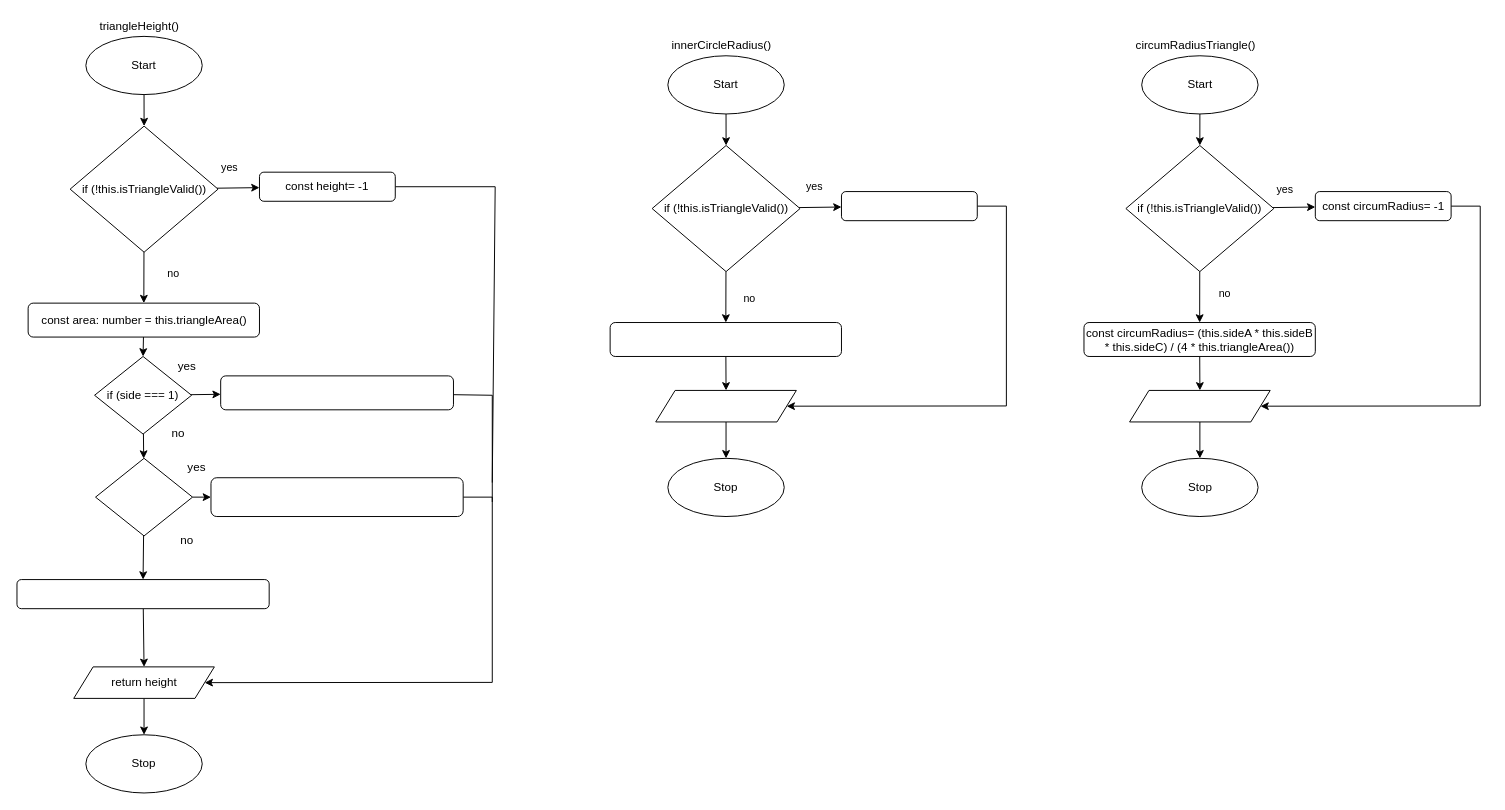
Some shapes in this 1505 by 810 pixel diagram are drawn without their labels. Each missing label, with the box of its shape:
const innerCircle = this.triangleArea() / this.triangleSemiperimeter(): (609, 322, 841, 356)
const innerCircle= -1: (841, 191, 977, 221)
else if (side === 2): (95, 457, 193, 536)
height = (2* area) / this.sideA: (220, 375, 453, 410)
height = (2* area) / this.sideB: (210, 477, 463, 517)
height = (2* area) / this.sideC: (16, 579, 269, 609)
return circumRadius: (1129, 389, 1270, 422)
return innerCircle: (655, 389, 796, 422)
